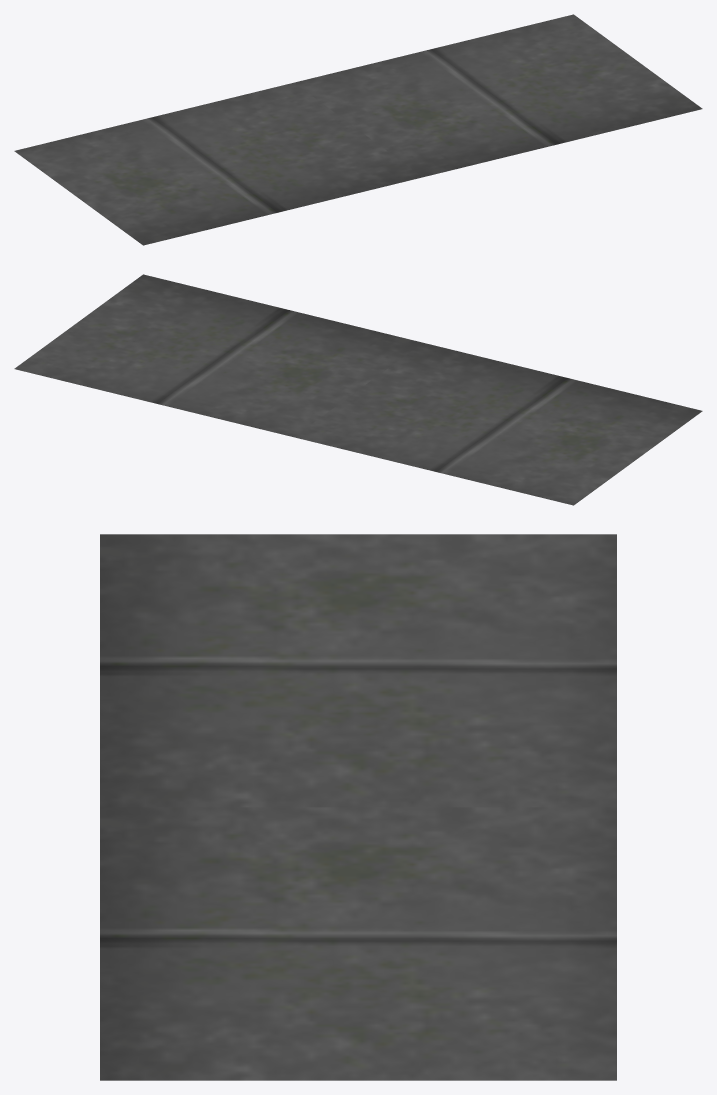
Rendered from pavement.fbx.
3 views of the same model, one above another, from view 1: azimuth 30°, elevation 25°; view 2: azimuth 150°, elevation 25°; view 3: azimuth 270°, elevation 25° (orthographic). The views are drawn at different scales.
Visible parts, largest first — view 1: pavement; view 2: pavement; view 3: pavement.
Boxes of the visible parts, x1,y1,x2,y2 form: pavement: (14,14,702,245); pavement: (14,274,702,505); pavement: (100,534,616,1080).
Bounding box in the file's own units: 1000 × 400 × 0.
1 material, 1 textured.
